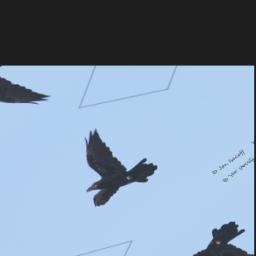Crow: (39, 123, 163, 213)
